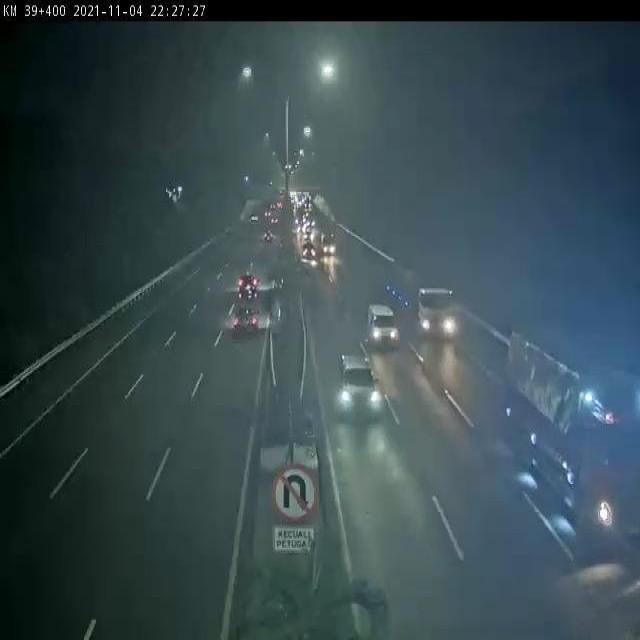car: (337, 352, 378, 407), (368, 304, 399, 347), (231, 312, 262, 336), (236, 272, 259, 301)
truck-l-: (506, 325, 640, 543)
truck-xl-: (391, 264, 458, 341)
